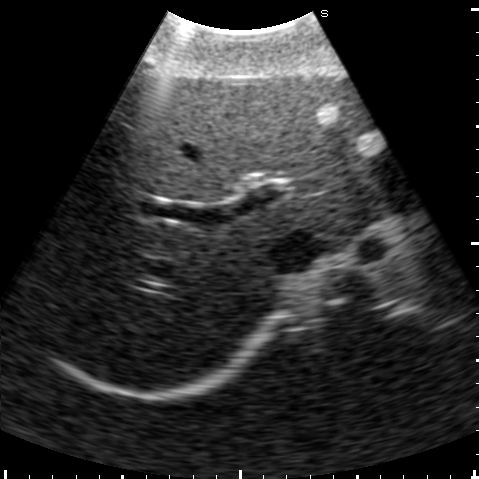IVC: (271, 232, 325, 270)
S3: (260, 75, 394, 193)
S4: (118, 77, 322, 201)
Tumor: (356, 134, 384, 158), (316, 104, 339, 124)
